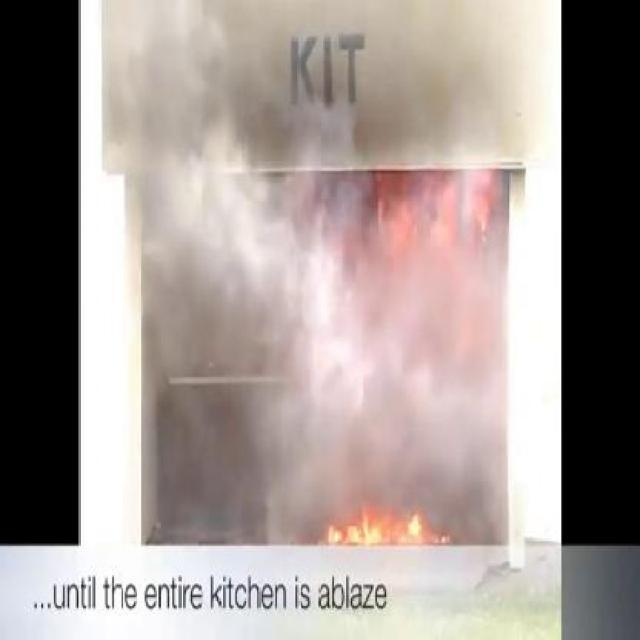fire: (312, 513, 456, 553)
smoke: (148, 164, 354, 541), (363, 296, 506, 530)
